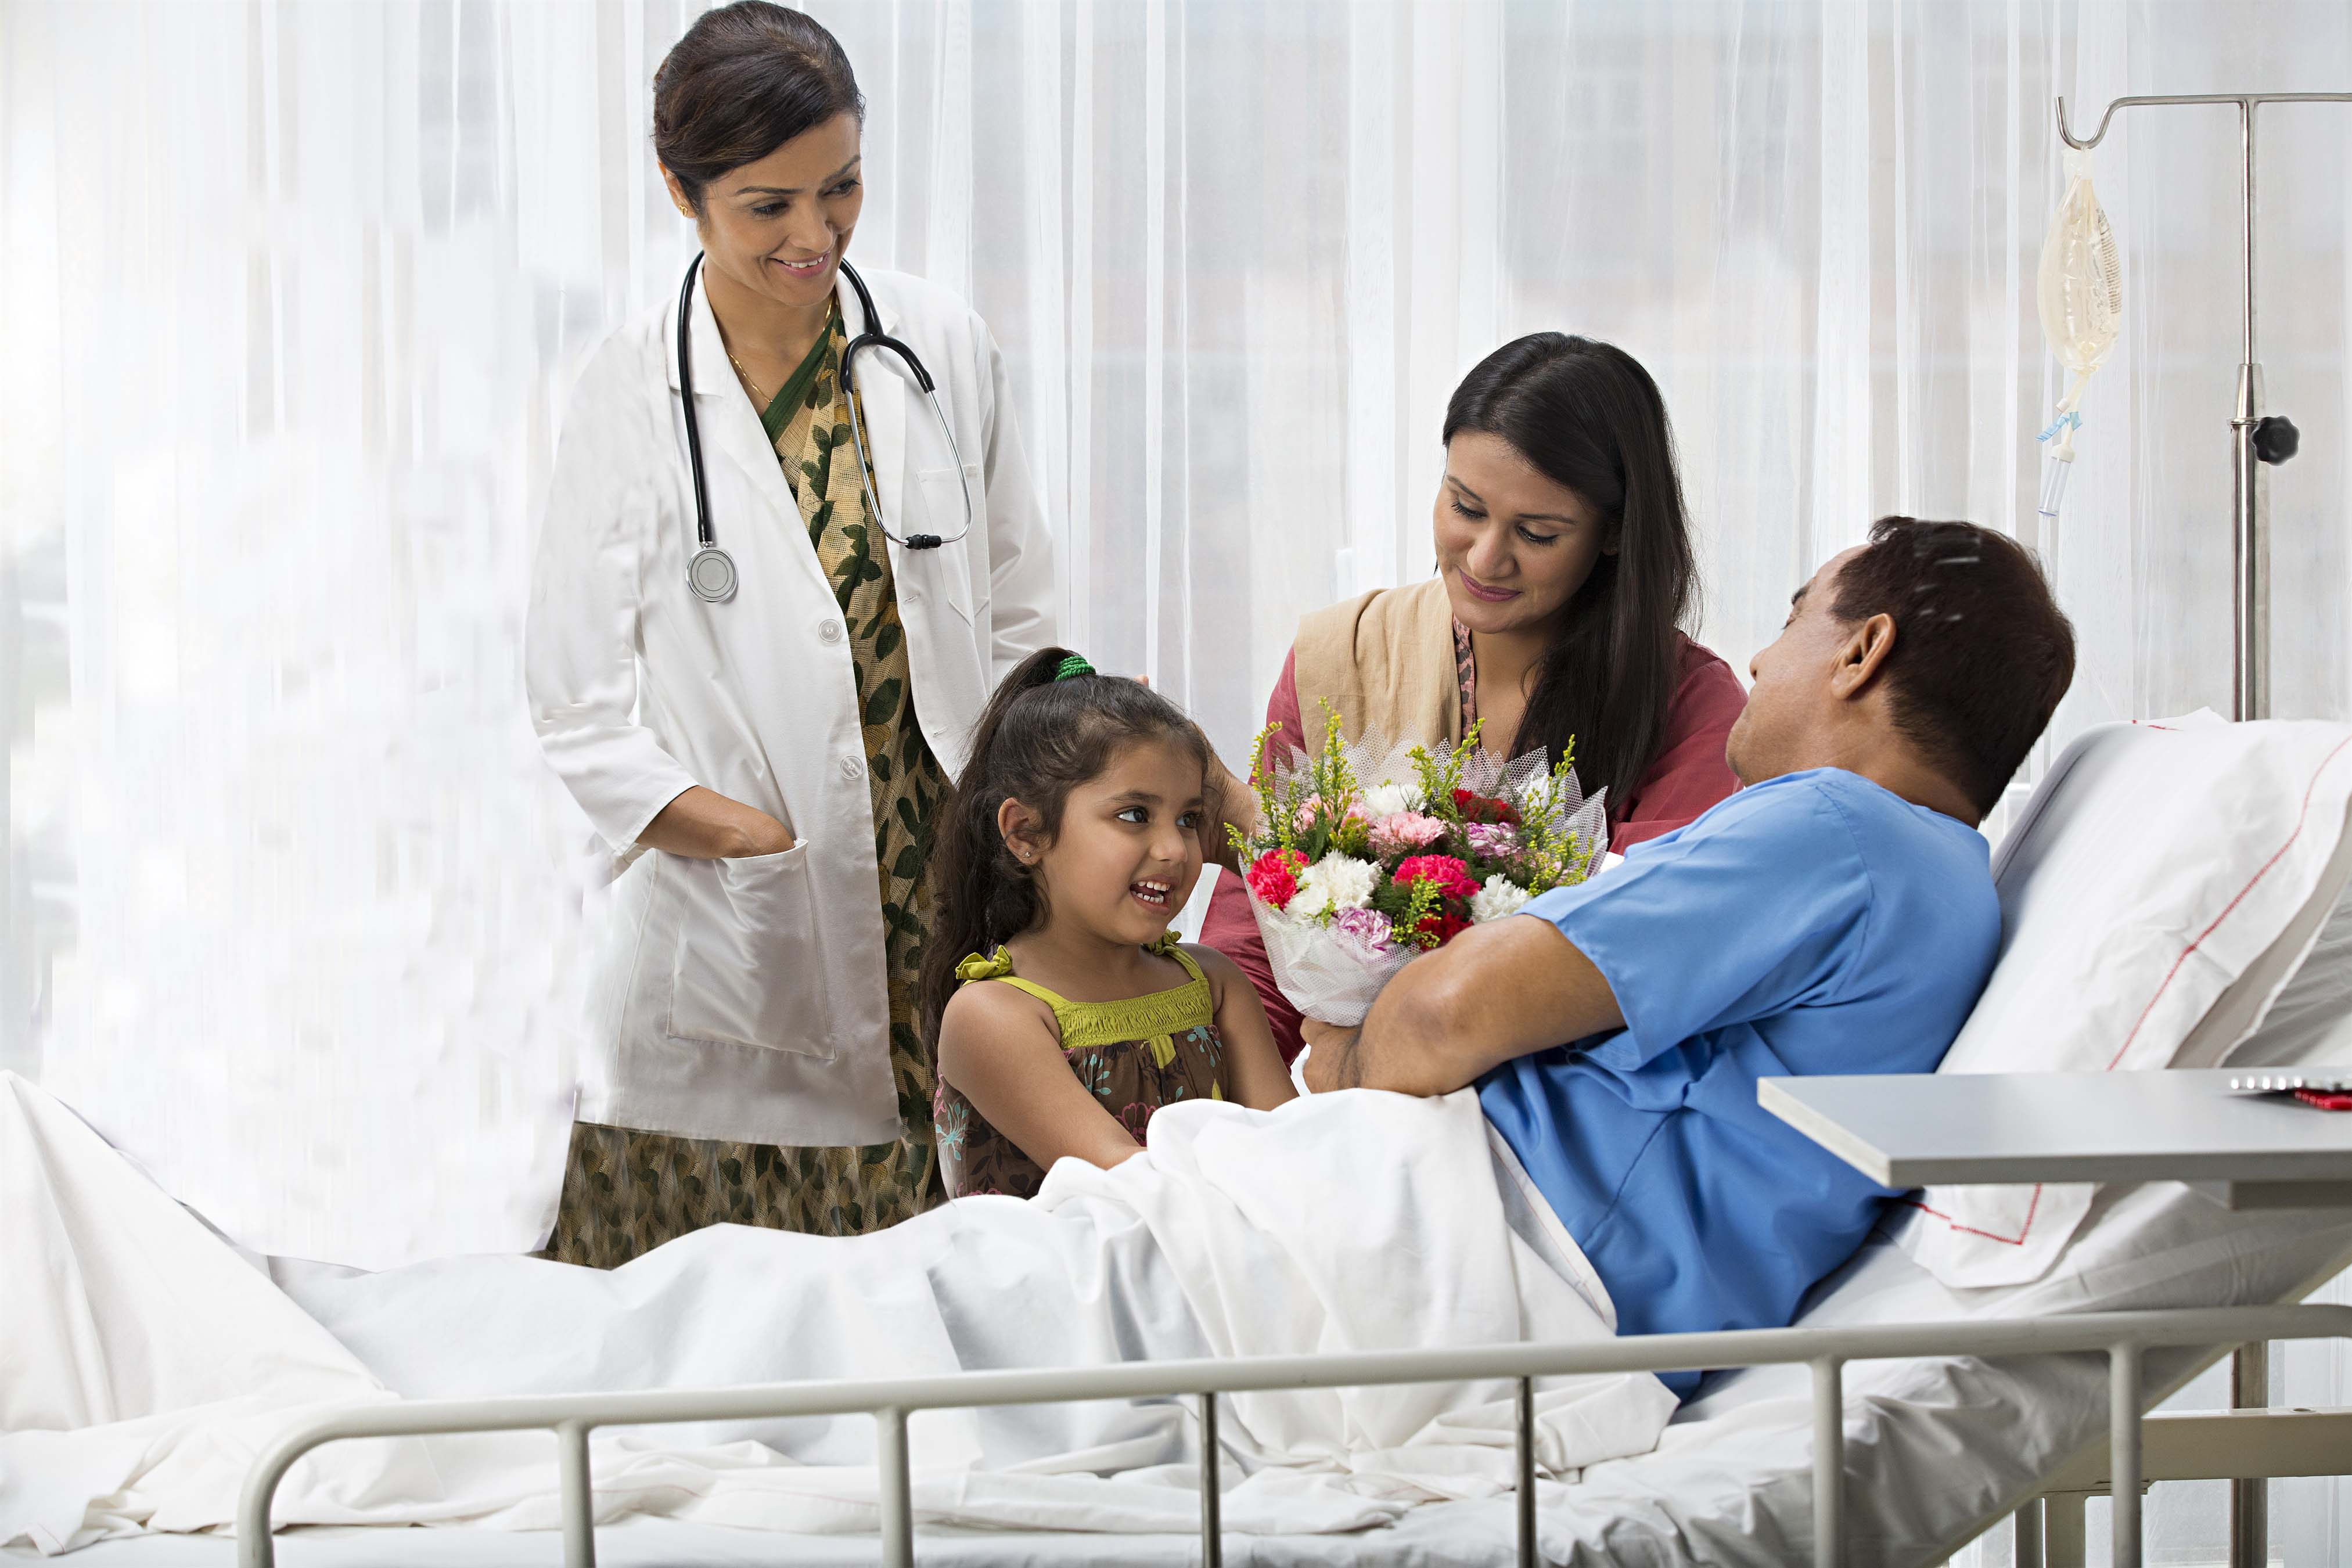visitor: (808, 280, 1723, 1237)
